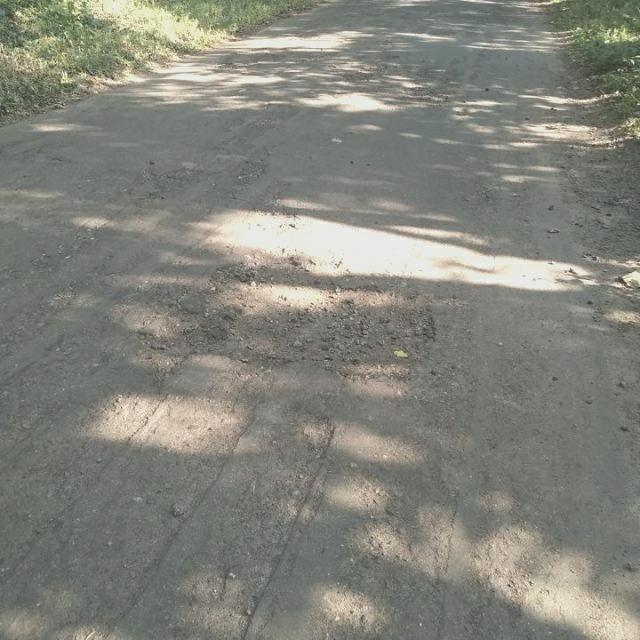Pothole: (190, 247, 447, 373)
